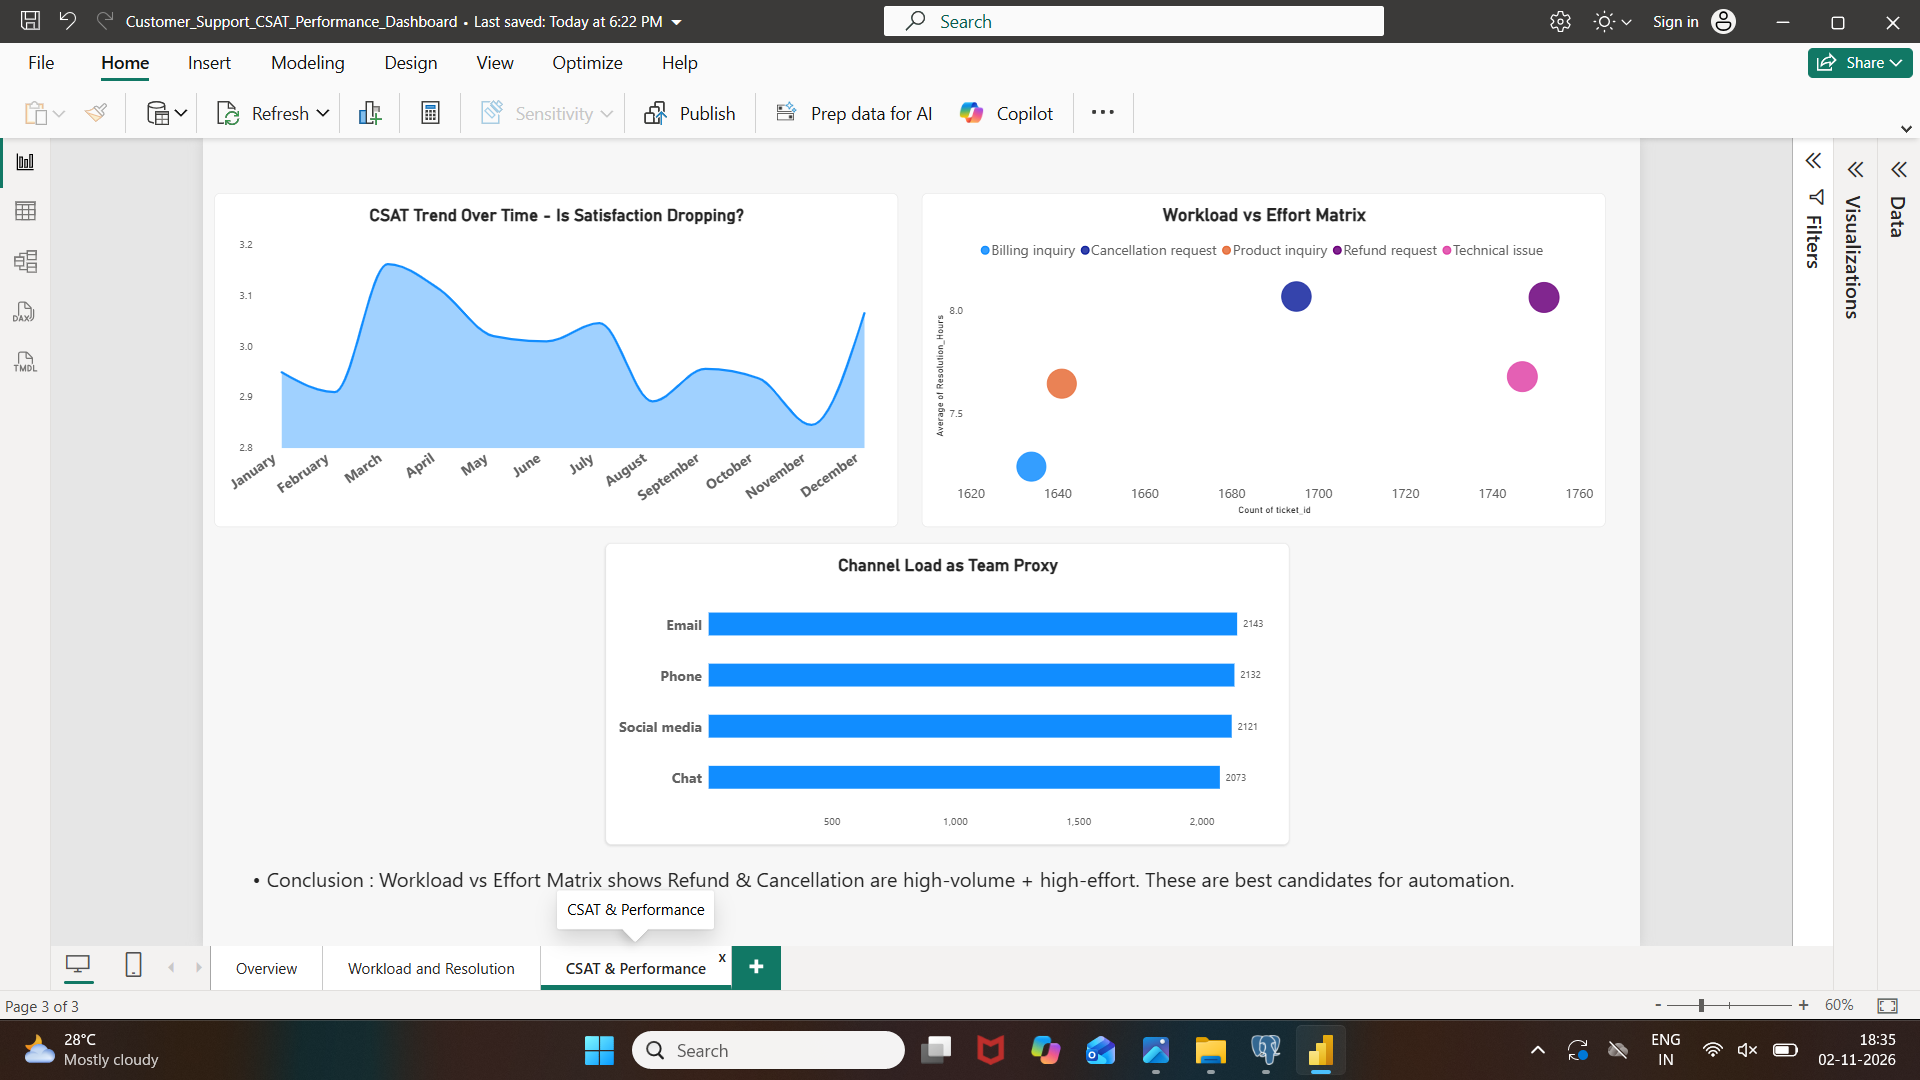

This screenshot's page, from the dashboard's own definition file:
{"tool":"powerbi","page":{"name":"CSAT & Performance","canvas":[1920,1080],"ordinal":2},"visuals":[{"type":"scatterChart","title":"Workload vs Effort Matrix ","fields":{"Series":["public support_tickets.ticket_type"],"Size":["CountNonNull(public support_tickets.ticket_id)"],"X":["CountNonNull(public support_tickets.ticket_id)"],"Y":["Avg(public support_tickets.Resolution_Hours)"]},"box":[959.3,73.3,914,446.5],"z":0},{"type":"lineChart","title":"CSAT Trend Over Time - Is Satisfaction Dropping?","fields":{"Category":["public support_tickets.date_of_purchase.Variation.Date Hierarchy.Month"],"Y":["public support_tickets.AVG CSAT Fixed"]},"box":[15.7,73.3,914,446.5],"z":1000},{"type":"clusteredBarChart","title":"Channel Load as Team Proxy","fields":{"Category":["public support_tickets.ticket_channel"],"Y":["CountNonNull(public support_tickets.ticket_description)"]},"box":[537.2,540.7,914,402.9],"z":2000},{"type":"textbox","box":[45.3,971.5,1768.6,64.5],"z":2001}]}

Visuals, with their boxes on the page's 1920x1080 design canvas (x1, y1, x2, y2). These are canvas units, not pixel positions in the 1920x1080 screenshot, which may show the page scaled, cropped or inside an application window:
"Workload vs Effort Matrix " scatterChart: bbox=(959, 73, 1873, 520)
"CSAT Trend Over Time - Is Satisfaction Dropping?" lineChart: bbox=(16, 73, 930, 520)
"Channel Load as Team Proxy" clusteredBarChart: bbox=(537, 541, 1451, 944)
textbox: bbox=(45, 972, 1814, 1036)
